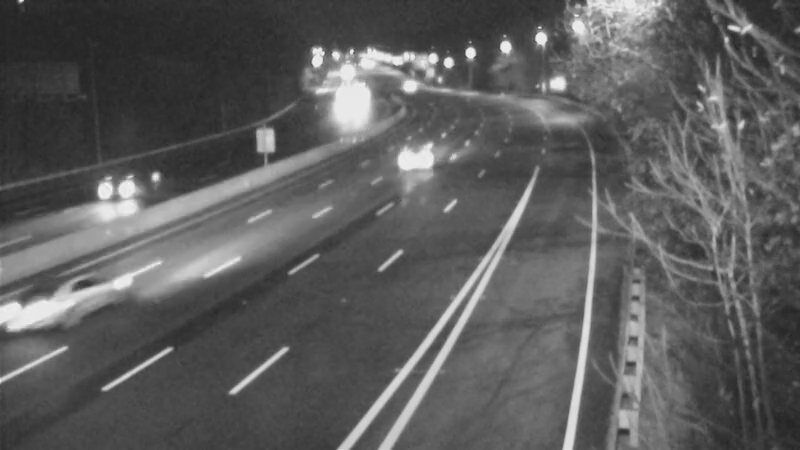vehicle: (383, 116, 463, 196), (45, 254, 125, 334), (75, 149, 155, 229), (384, 59, 434, 109), (320, 88, 370, 138)
